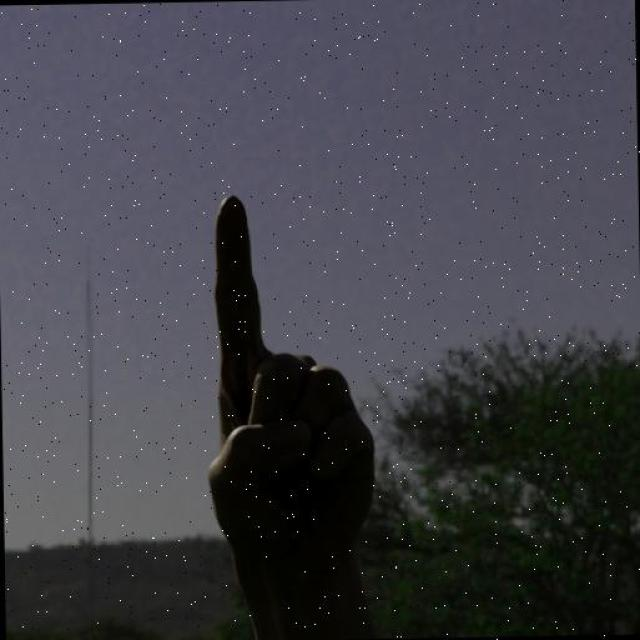Z: (159, 166, 429, 634)
